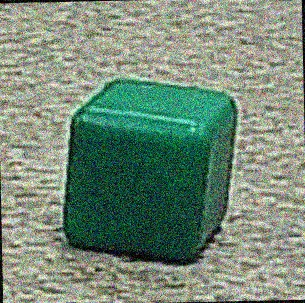green_cube: (64, 74, 244, 266)
